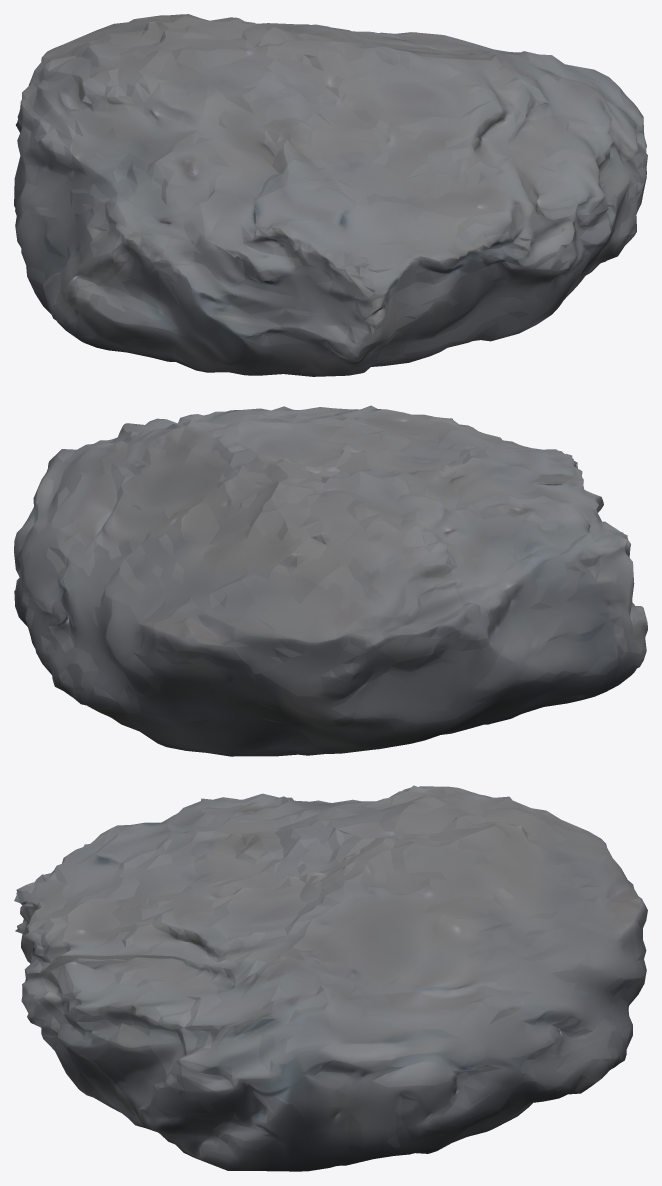
Rendered from rock.glb.
3 views of the same model, one above another, from view 1: azimuth 30°, elevation 25°; view 2: azimuth 150°, elevation 25°; view 3: azimuth 270°, elevation 25° (orthographic).
Parts seen in each view (by area): view 1: model; view 2: model; view 3: model.
Part boxes in pixels (x1,y1,x2,y2): model: [14, 14, 647, 376]; model: [14, 405, 647, 756]; model: [14, 785, 647, 1171].
Bounding box in the file's own units: 1.9 × 0.7061 × 1.76.
1 material, 1 textured.
